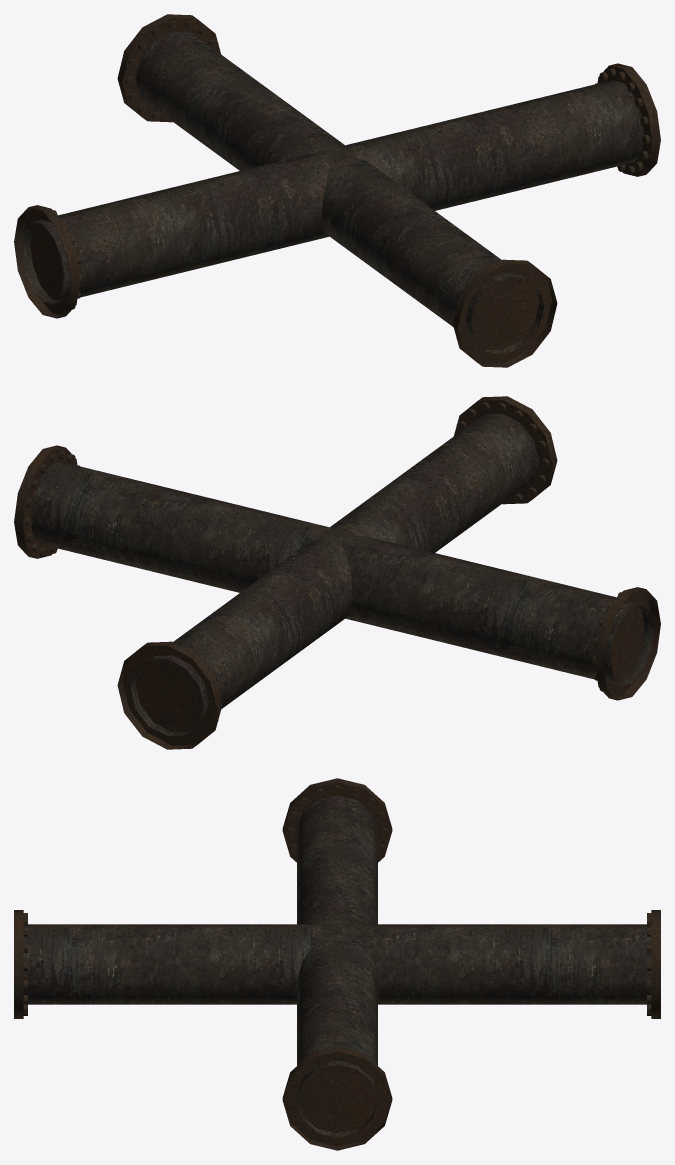
The model's file is pipe_bx_2.glb.
The picture shows the model from 3 angles, top to bottom: view 1: azimuth 30°, elevation 25°; view 2: azimuth 150°, elevation 25°; view 3: azimuth 270°, elevation 25°; orthographic projection. The views are drawn at different scales.
Parts seen in each view (by area): view 1: pipe_bx_2; view 2: pipe_bx_2; view 3: pipe_bx_2.
Boxes of the visible parts, <box> form: pipe_bx_2: <box>14,14,660,367</box>; pipe_bx_2: <box>14,396,660,749</box>; pipe_bx_2: <box>14,778,660,1150</box>.
Bounding box in the file's own units: 4 × 0.676 × 4.
Materials: 2 (2 with a texture image).
